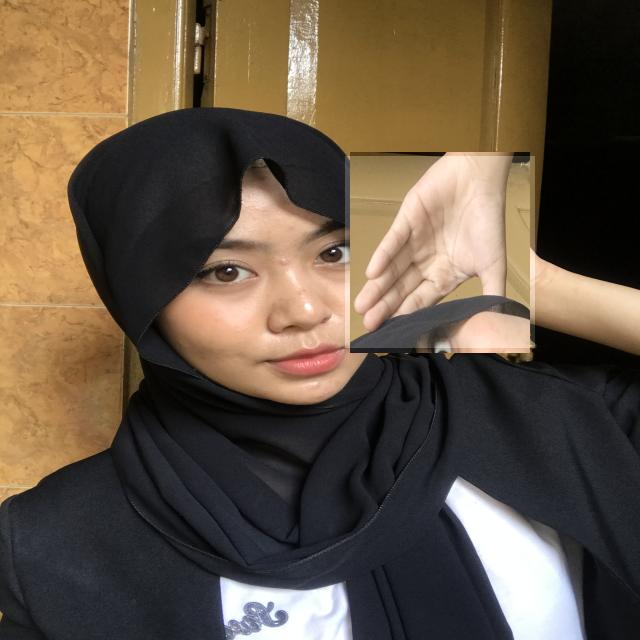mendengar: (345, 156, 535, 348)
